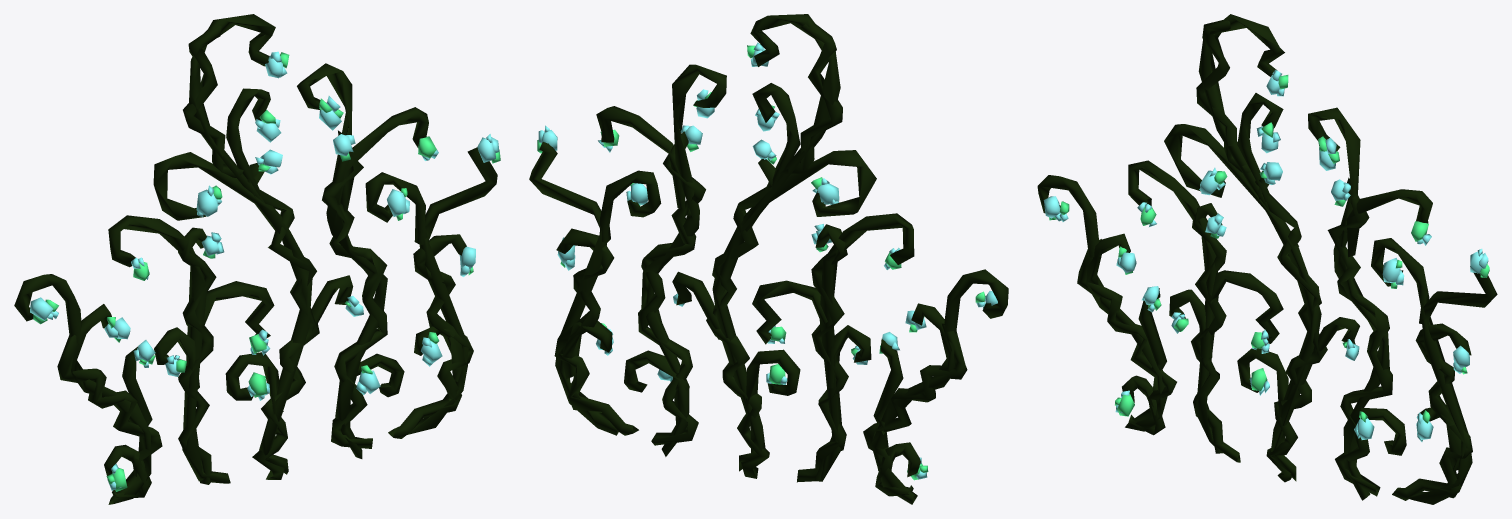
Rendered from TrepadeiraPlantaB.fbx.
3 renders of one model, left to right at view 1: azimuth 30°, elevation 25°; view 2: azimuth 150°, elevation 25°; view 3: azimuth 330°, elevation 25°, orthographic. The views are drawn at different scales.
Parts seen in each view (by area): view 1: Ramos2, Fruto2; view 2: Ramos2, Fruto2; view 3: Ramos2, Fruto2.
Part boxes in pixels (box(x1,y1,x2,y2)): Ramos2: box(14, 14, 497, 504); Fruto2: box(30, 51, 500, 491); Ramos2: box(529, 14, 1008, 504); Fruto2: box(537, 42, 997, 480); Ramos2: box(1037, 14, 1497, 504); Fruto2: box(1043, 70, 1489, 441).
Bounding box in the file's own units: 222 × 210 × 11.71.
